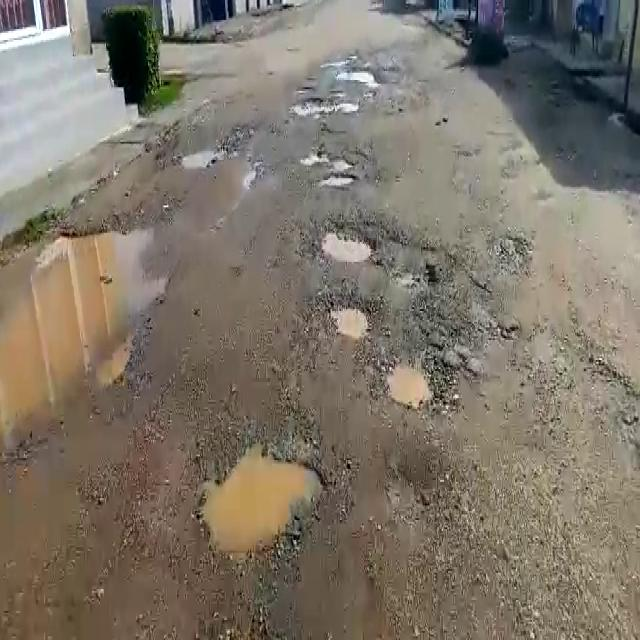Pothole: (0, 218, 170, 453), (194, 437, 333, 565), (385, 356, 442, 410), (314, 220, 379, 264), (325, 297, 377, 340), (293, 95, 359, 118), (180, 146, 220, 166), (319, 172, 358, 190), (345, 66, 379, 84)
